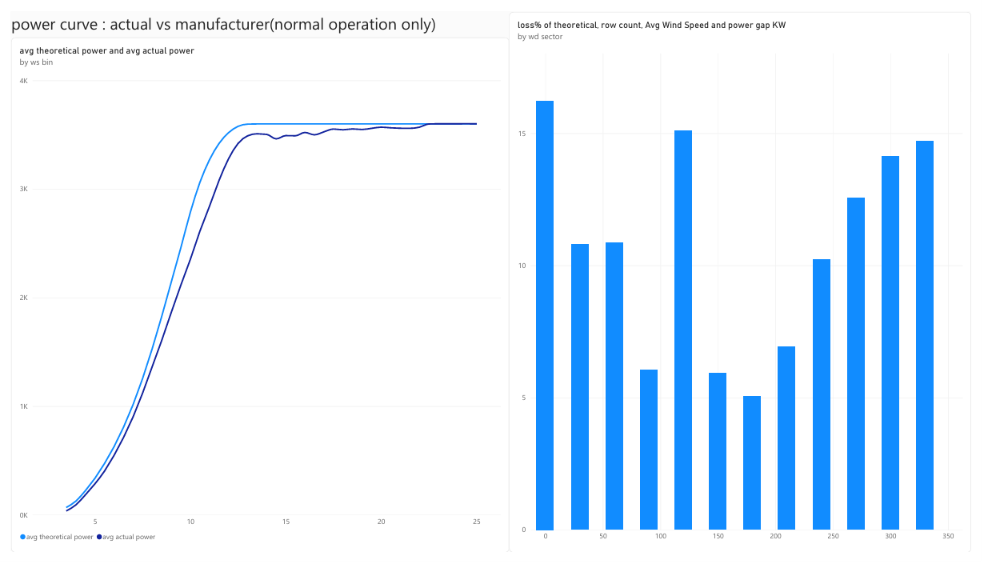

What the dashboard file says about the page in this screenshot:
{"tool":"powerbi","page":{"name":"power curve analysis","canvas":[1920,1080],"ordinal":1},"visuals":[{"type":"lineChart","fields":{"Category":["T1.ws bin"],"Y":["T1.avg theoretical power","T1.avg actual power"]},"box":[0,51.5,996.2,1029.2],"z":0},{"type":"clusteredColumnChart","fields":{"Category":["T1.wd sector"],"Y":["T1.loss% of theoretical"]},"box":[996.2,0,924.2,1080.6],"z":1},{"type":"textbox","box":[0,0,862.4,100.9],"z":2}]}

Visuals, with their boxes in screenshot pixels (x1, y1, x2, y2), scaled from the page's 1920x1080 canvas onto the 982x562 screenshot:
lineChart - T1.ws bin x T1.avg theoretical power: (x1=0, y1=27, x2=510, y2=561)
clusteredColumnChart - T1.wd sector x T1.loss% of theoretical: (x1=510, y1=0, x2=981, y2=561)
textbox: (x1=0, y1=0, x2=441, y2=53)
